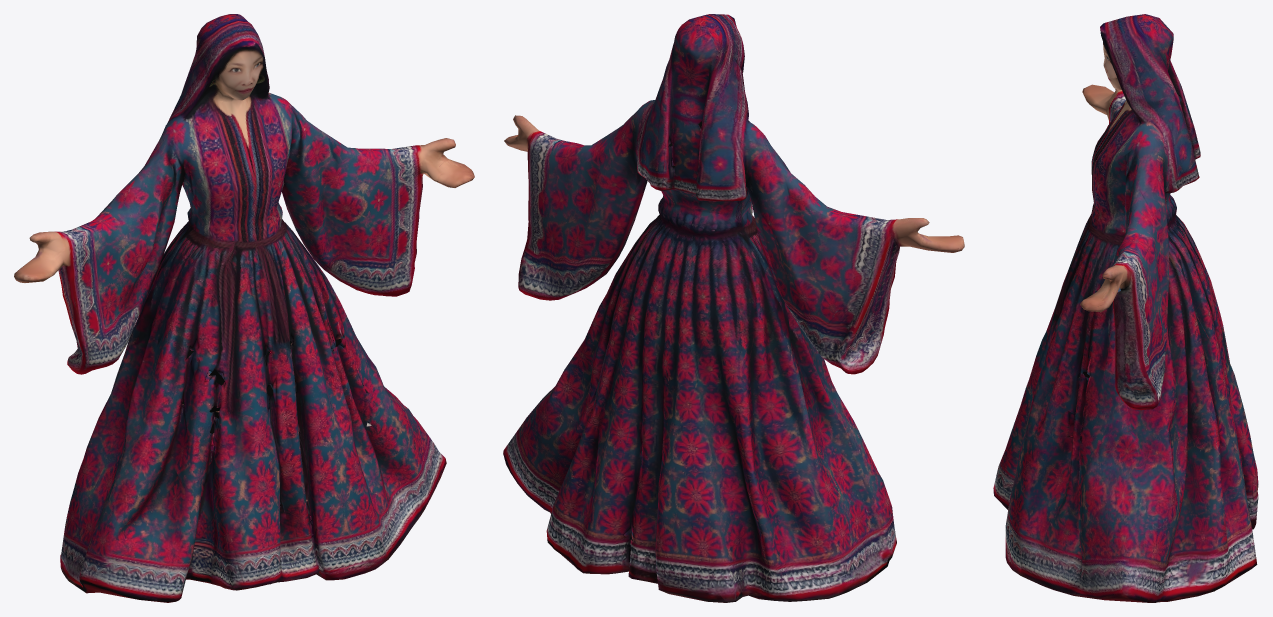
Rendered from Meshy_AI_Selcuklu_koylusu_kadı_0531003618_texture.glb.
The picture shows the model from 3 angles, left to right: view 1: azimuth 30°, elevation 25°; view 2: azimuth 150°, elevation 25°; view 3: azimuth 270°, elevation 25°; orthographic projection.
Parts seen in each view (by area): view 1: Mesh1.0; view 2: Mesh1.0; view 3: Mesh1.0.
Part boxes in pixels (box(x1,y1,x2,y2)): Mesh1.0: box(14, 14, 474, 602); Mesh1.0: box(503, 14, 964, 602); Mesh1.0: box(993, 14, 1258, 602).
Size of the model in its own units: 1.73 by 1.92 by 0.8845.
Materials: 1 (1 with a texture image).
